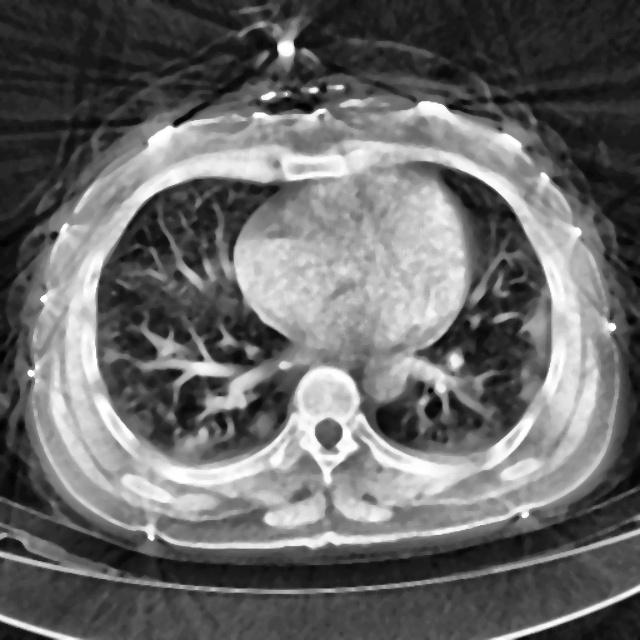covid: (17, 88, 631, 564)
